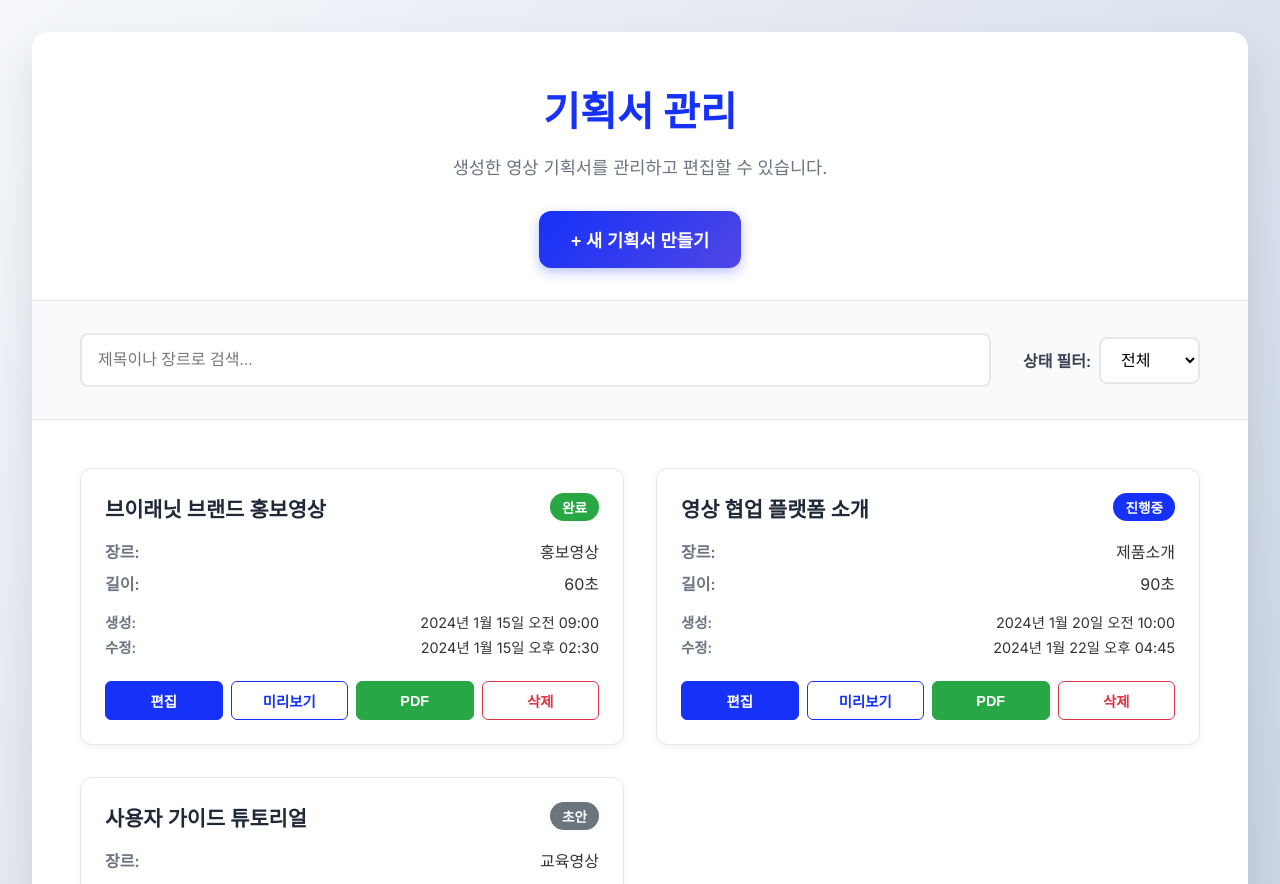
Test: HistoryPage › 필터 및 검색 기능 › 검색어 입력 시 필터링이 작동한다
Expected: the heading "브이래닛 브랜드 홍보영상" is shown, x1=105 y1=497 x2=326 y2=522
Type "협업" into the field with placeholder "제목이나 장르로 검색...".
click(536, 360); type("협업")  # box x1=80 y1=333 x2=991 y2=387
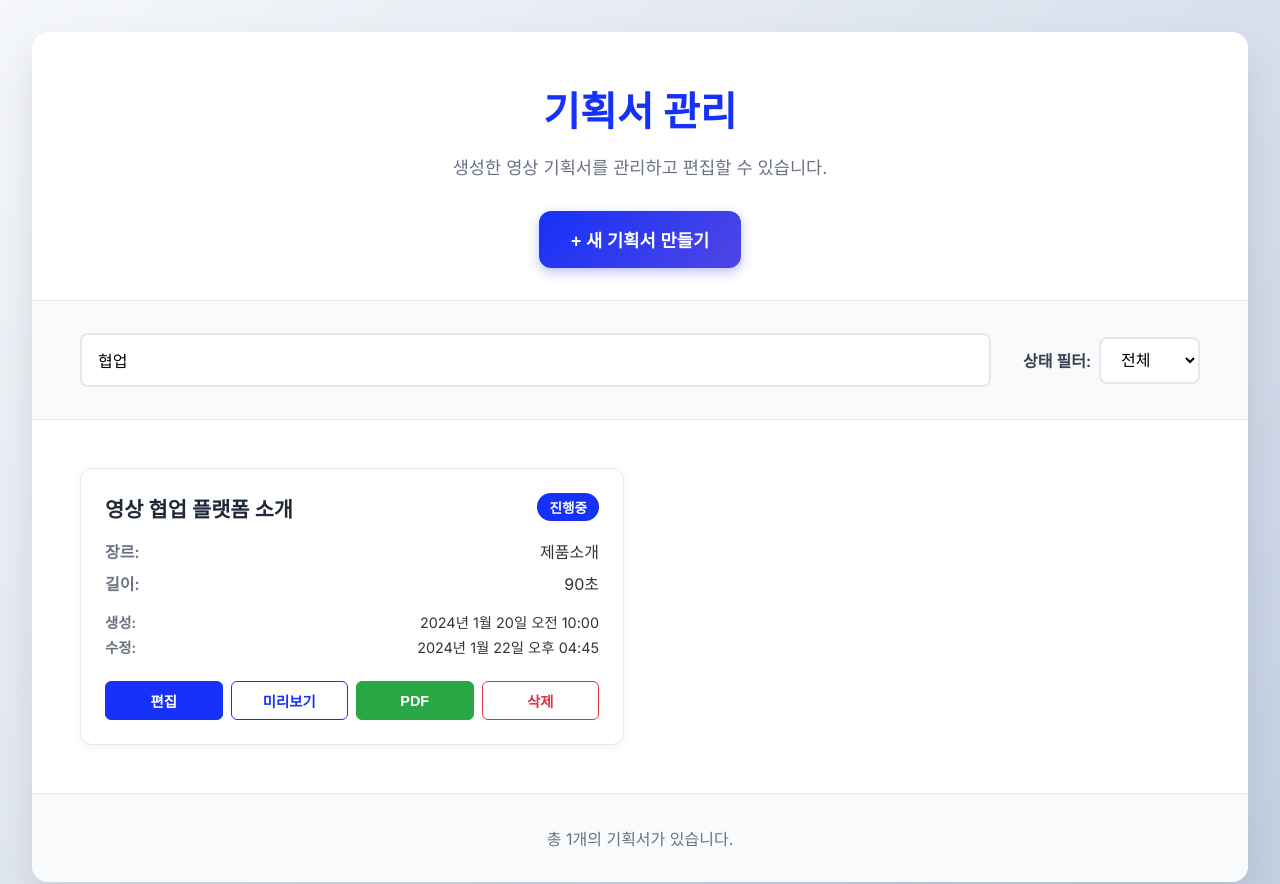
Expected: the heading "영상 협업 플랫폼 소개" is shown, x1=105 y1=497 x2=293 y2=522
Expected: the heading "브이래닛 브랜드 홍보영상" is gone
